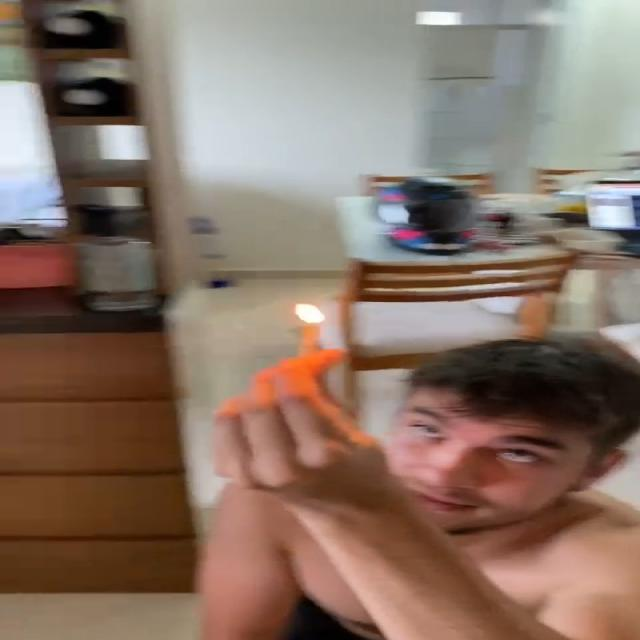fogo-ypXI: (294, 302, 327, 324)
